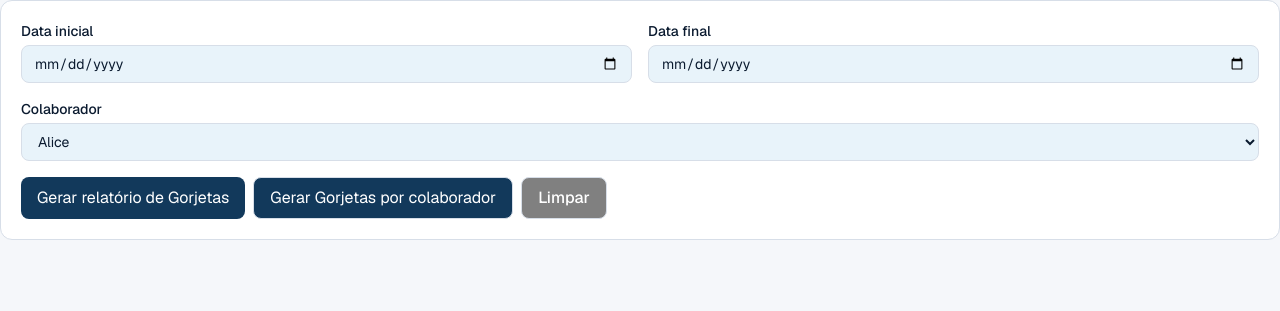
Test case: CommissionsFilter flow › shows validation when required period is missing for general report
This screenshot has width=1280, height=311.
Click the button "Gerar relatório de Gorjetas": coordinates (133, 198) [21,177,245,219]
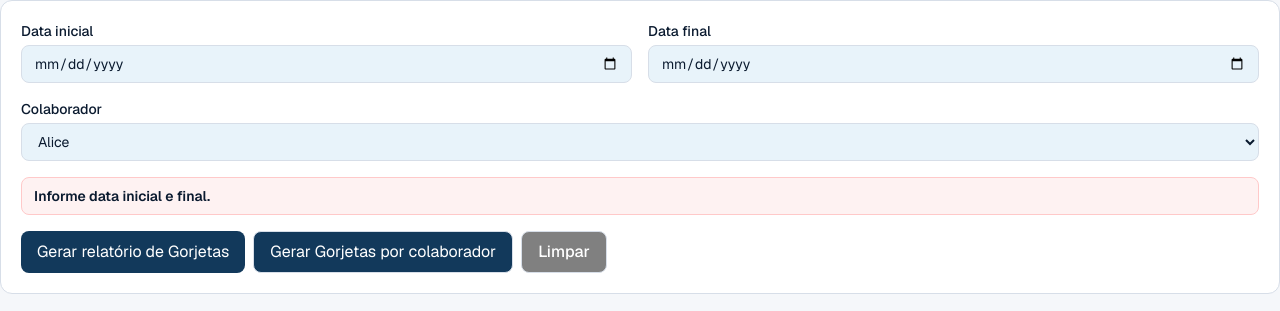
Check: the text "Informe data inicial e final." is shown, box [21,177,1259,215]
